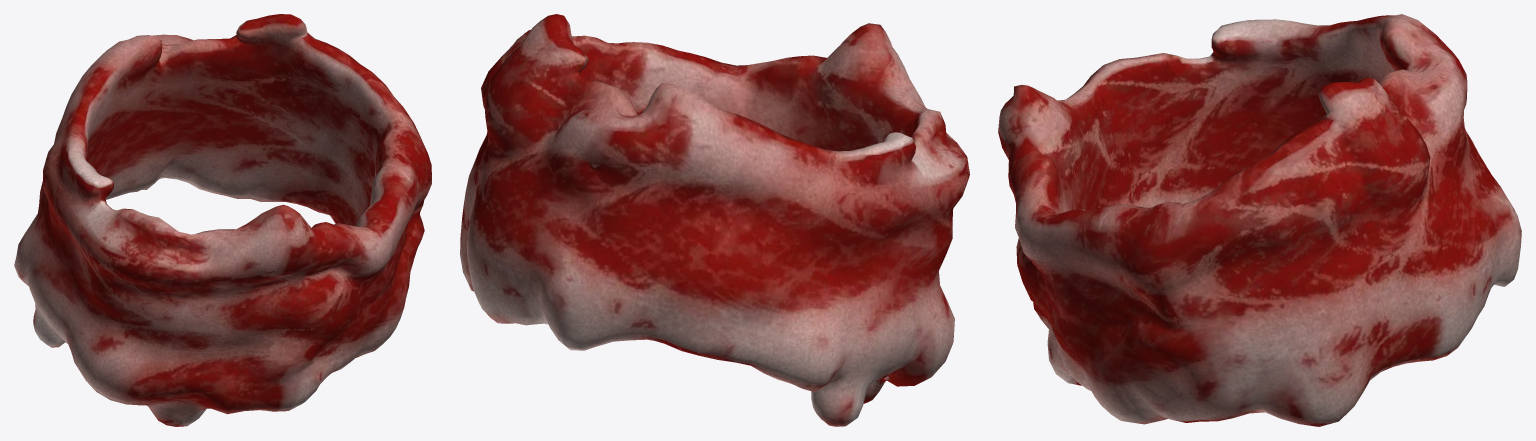
File: steak-ring.glb
3 renders of one model, left to right at view 1: azimuth 30°, elevation 25°; view 2: azimuth 150°, elevation 25°; view 3: azimuth 270°, elevation 25°, orthographic. The views are drawn at different scales.
Parts seen in each view (by area): view 1: tripo_node_ad01701f-4910-4bb3-bed7-ead402a466e3_n3d; view 2: tripo_node_ad01701f-4910-4bb3-bed7-ead402a466e3_n3d; view 3: tripo_node_ad01701f-4910-4bb3-bed7-ead402a466e3_n3d.
Boxes of the visible parts, left/top/right/bottom form: tripo_node_ad01701f-4910-4bb3-bed7-ead402a466e3_n3d: left=14, top=14, right=431, bottom=426; tripo_node_ad01701f-4910-4bb3-bed7-ead402a466e3_n3d: left=460, top=14, right=969, bottom=426; tripo_node_ad01701f-4910-4bb3-bed7-ead402a466e3_n3d: left=998, top=14, right=1521, bottom=426.
Size of the model in its own units: 0.3788 by 0.3355 by 0.4012.
Materials: 1 (1 with a texture image).
